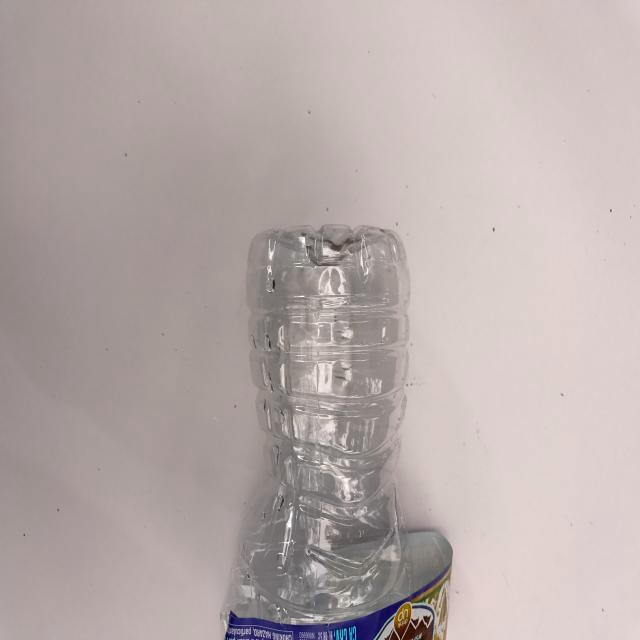plastic: (208, 202, 456, 640)
